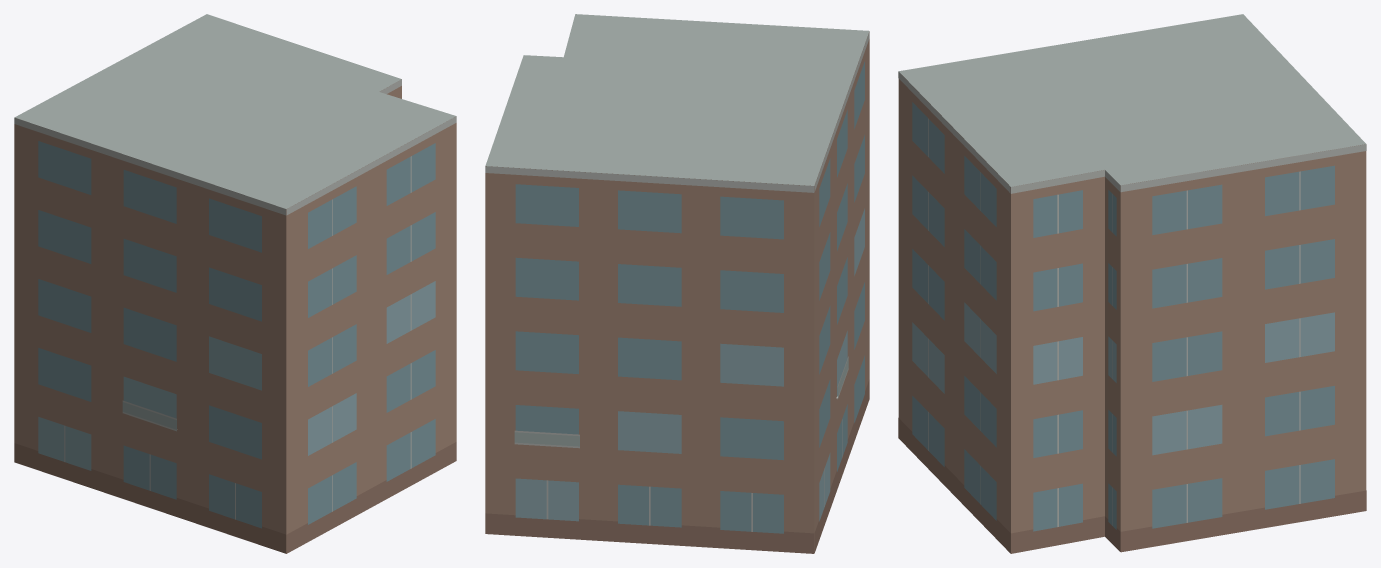
Rendered from survey-upis-32849638.glb.
3 renders of one model, left to right at view 1: azimuth 30°, elevation 25°; view 2: azimuth 150°, elevation 25°; view 3: azimuth 270°, elevation 25°, orthographic. The views are drawn at different scales.
Visible parts, largest first — view 1: survey-upis-32849638.tmp; view 2: survey-upis-32849638.tmp; view 3: survey-upis-32849638.tmp.
Boxes of the visible parts, box(x1,y1,x2,y2) form: survey-upis-32849638.tmp: box(14, 14, 456, 553); survey-upis-32849638.tmp: box(485, 14, 869, 553); survey-upis-32849638.tmp: box(898, 14, 1366, 553).
Bounding box in the file's own units: 13.12 × 12.96 × 14.99.
